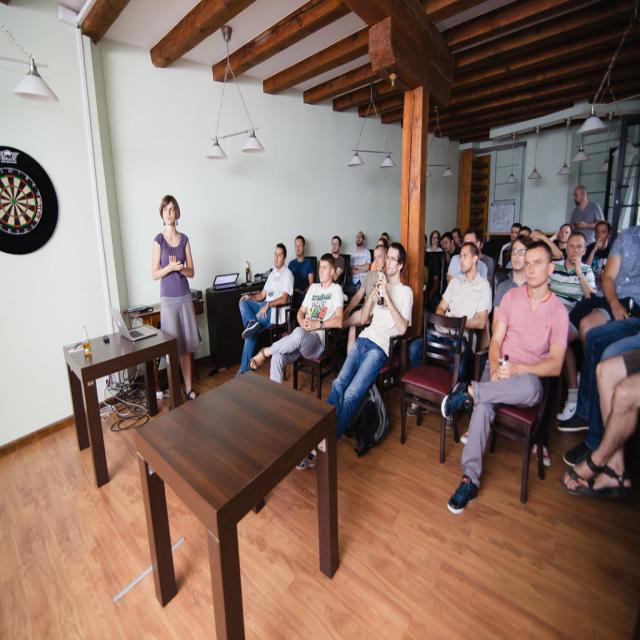chair: (400, 311, 468, 462), (486, 378, 549, 506), (292, 324, 341, 398)
desk: (133, 368, 335, 639)
person: (443, 238, 569, 511), (326, 241, 413, 450), (557, 223, 639, 438), (560, 338, 640, 498), (152, 192, 201, 405), (268, 251, 344, 386), (434, 236, 492, 384), (236, 240, 294, 374)
